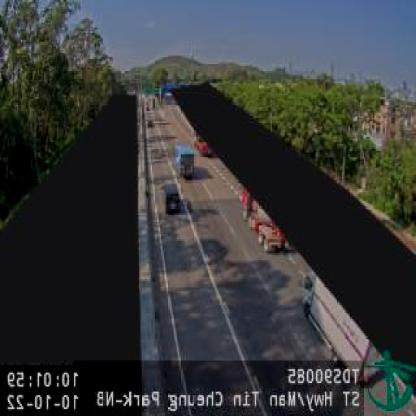Car: (163, 186, 179, 214)
Truck: (175, 144, 195, 180)
